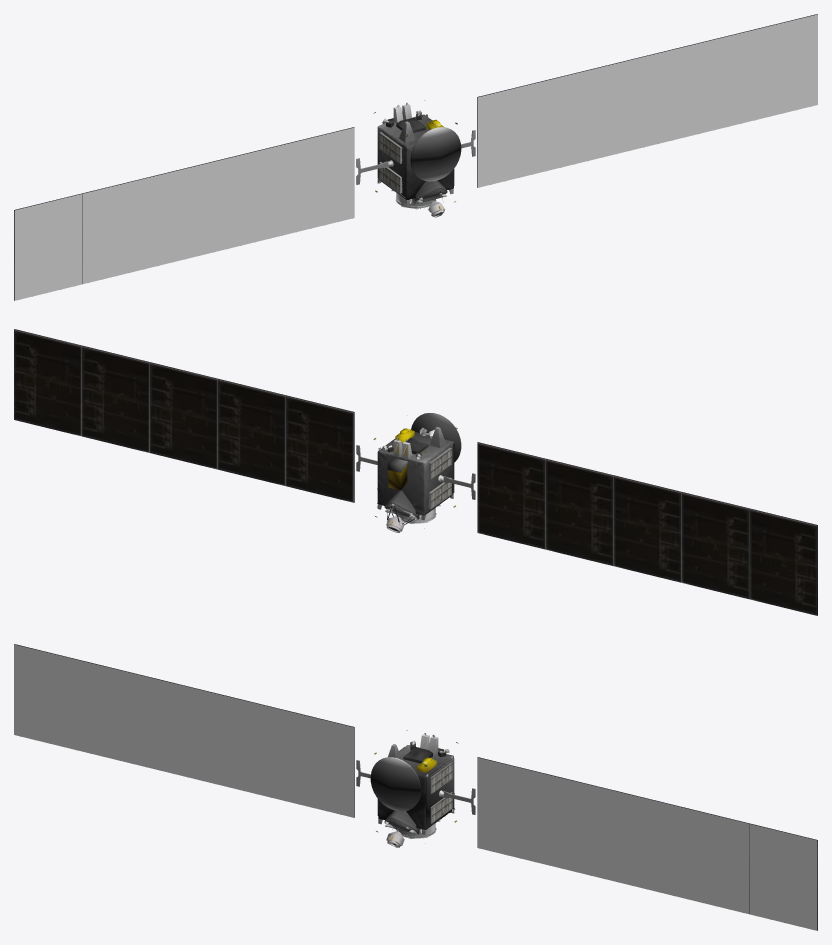
File: space-dawn.glb
3 views of the same model, one above another, from view 1: azimuth 30°, elevation 25°; view 2: azimuth 150°, elevation 25°; view 3: azimuth 330°, elevation 25° (orthographic).
Parts seen in each view (by area): view 1: tex_01.002, black_krinkle, tex_01; view 2: tex_01, black_krinkle, foil_gold; view 3: tex_01.002, black_krinkle, tex_01.
Part boxes in pixels (x1=…): tex_01.002: x1=14, y1=14, x2=817, y2=300; black_krinkle: x1=377, y1=104, x2=461, y2=208; tex_01: x1=14, y1=14, x2=817, y2=300; tex_01: x1=14, y1=329, x2=817, y2=615; black_krinkle: x1=377, y1=413, x2=461, y2=523; foil_gold: x1=388, y1=428, x2=414, y2=490; tex_01.002: x1=14, y1=644, x2=817, y2=930; black_krinkle: x1=370, y1=734, x2=454, y2=838; tex_01: x1=14, y1=644, x2=817, y2=930.
Size of the model in its own units: 19.7 by 2.13 by 2.14.
Materials: 4 (3 with a texture image).
